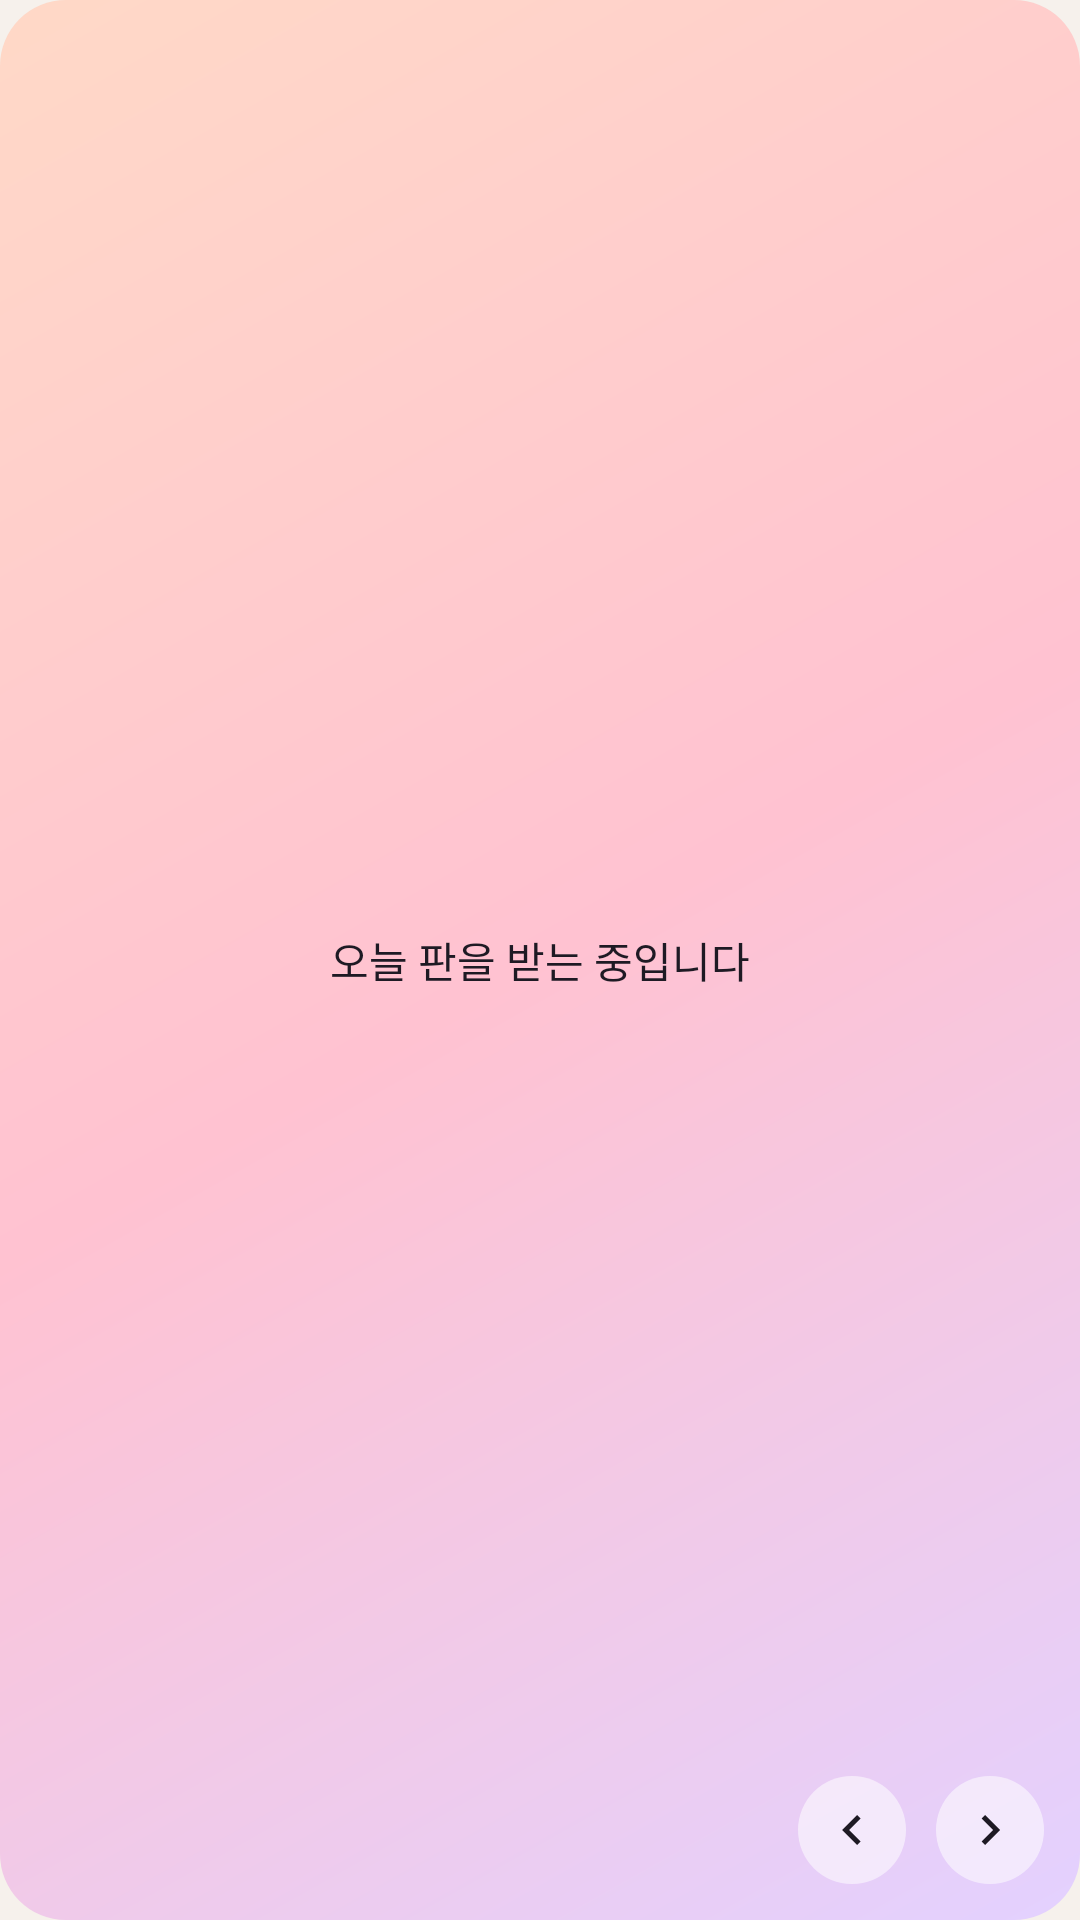

Screen size 1080*1920. Icon name, then its box in pixels as (x1,y1,x2,y2):
다음: (936,1776,1044,1884)
이전: (798,1776,906,1884)
